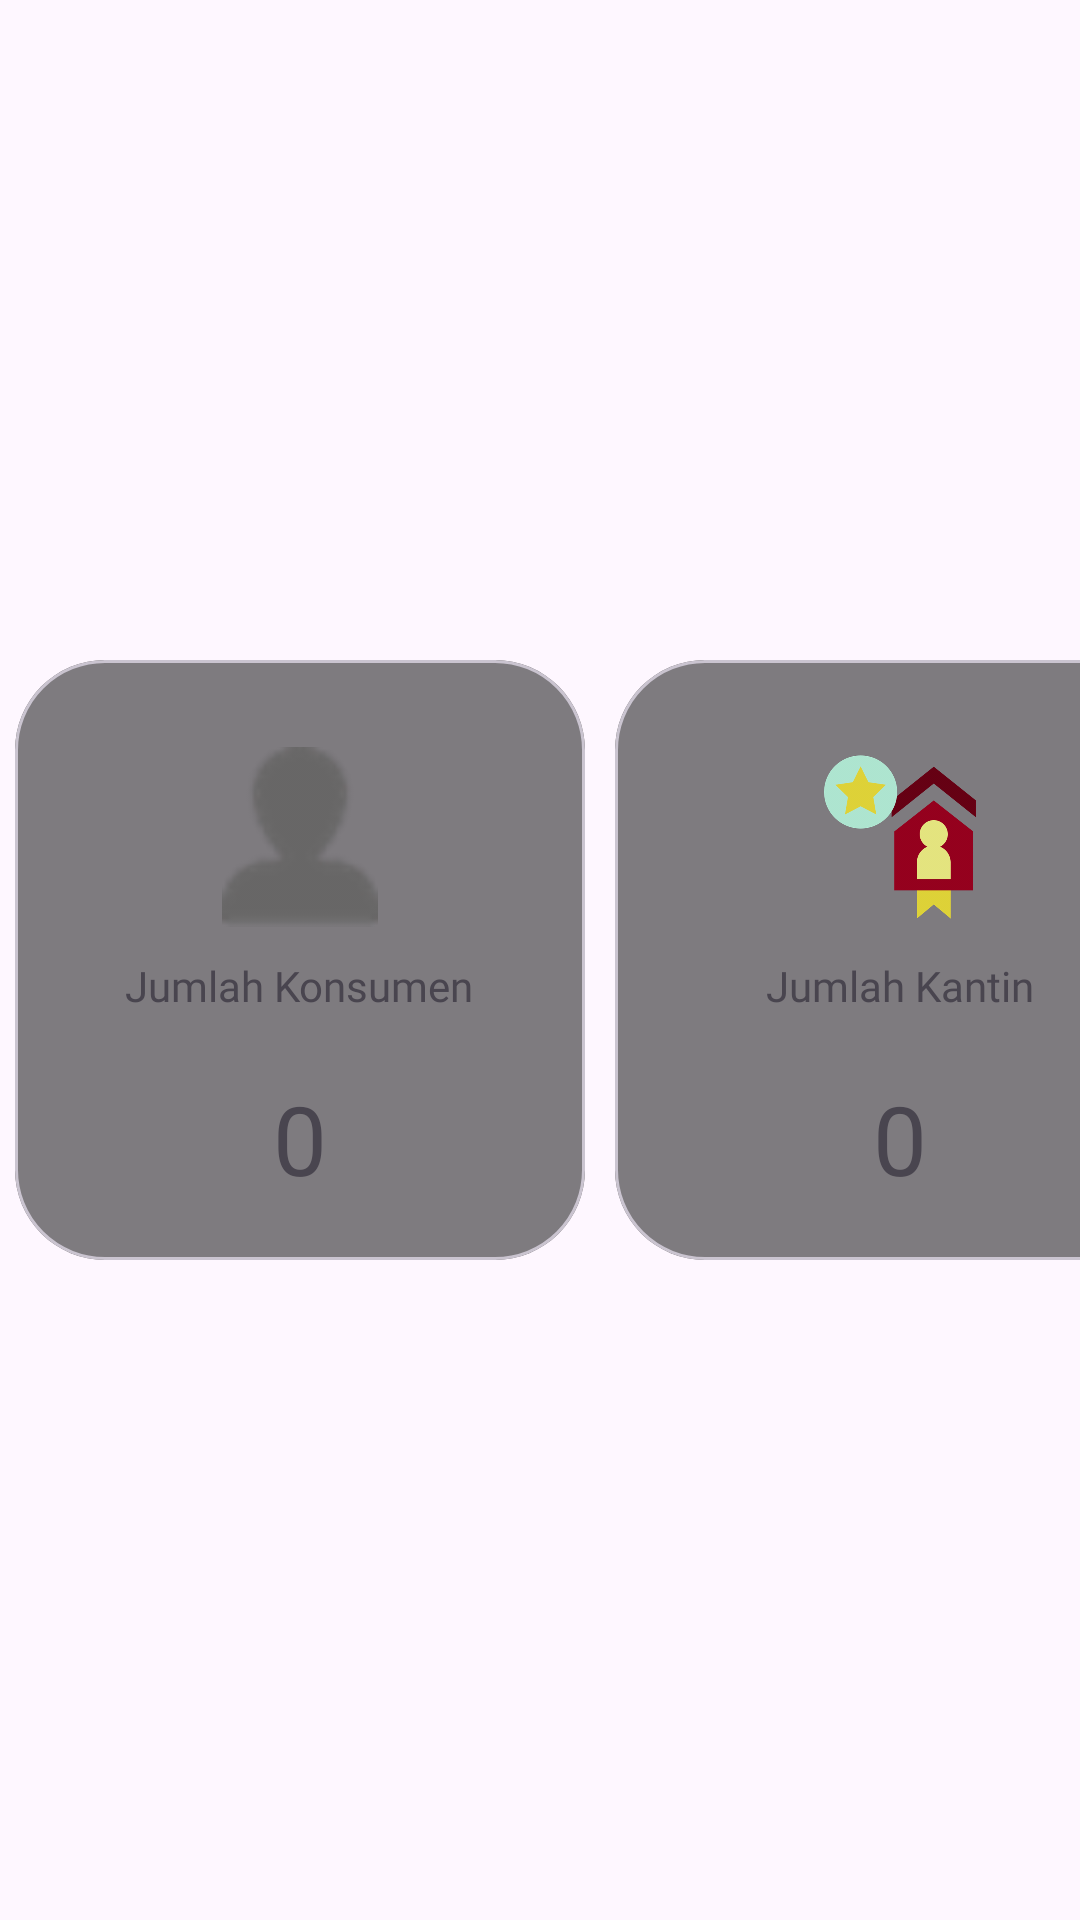

Where to tap for icons on this 1080px x 1920px app screen, as point (x, y):
penjual: point (900, 837)
